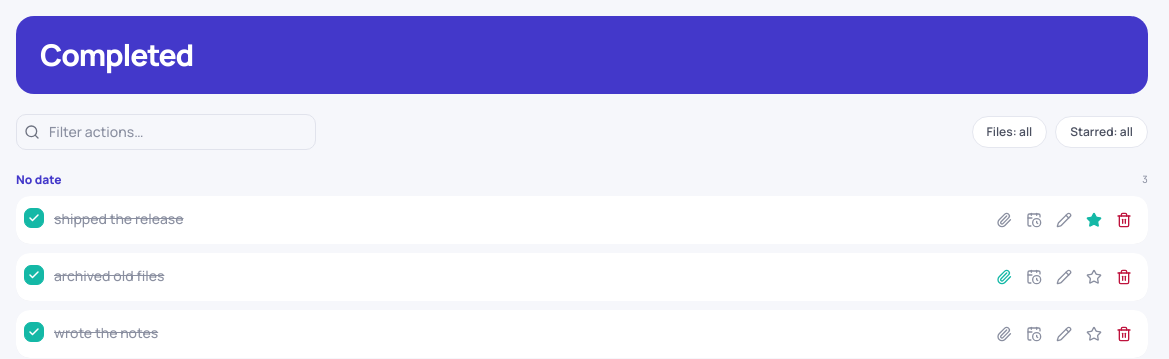
Test: done archive filters › filters to starred actions
Expected: the button "shipped the release" is shown, [54, 208, 184, 228]
Click the button "Starred: all" at x=1102, y=132, box [1055, 116, 1148, 148]
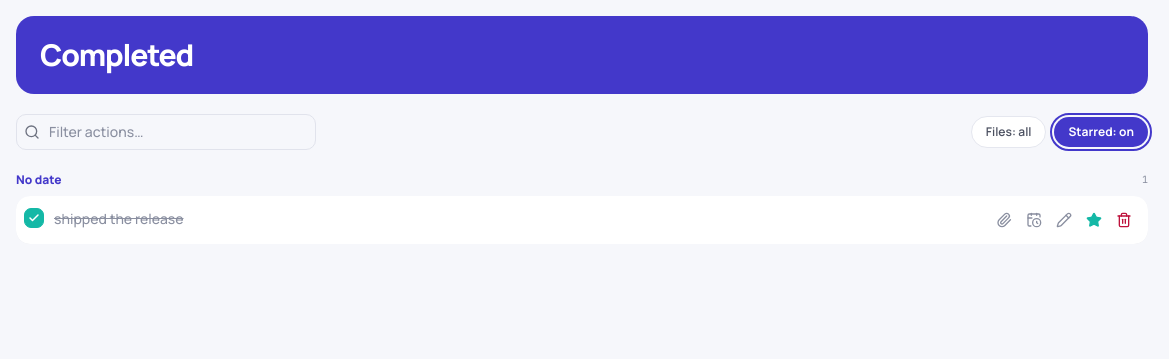
Expected: the button "shipped the release" is shown, [54, 208, 184, 228]
Expected: the button "wrote the notes" is gone
